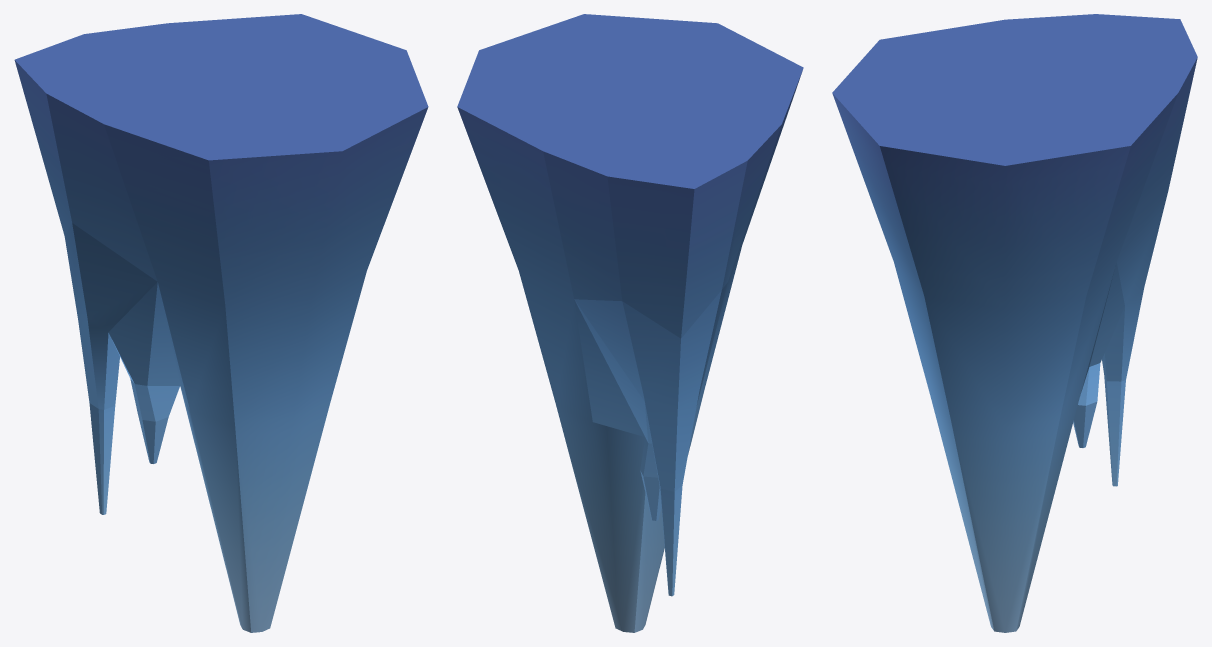
Rendered from icicle01.fbx.
3 renders of one model, left to right at view 1: azimuth 30°, elevation 25°; view 2: azimuth 150°, elevation 25°; view 3: azimuth 270°, elevation 25°, orthographic.
Parts seen in each view (by area): view 1: iceicle01; view 2: iceicle01; view 3: iceicle01.
Boxes of the visible parts, x1,y1,x2,y2 form: iceicle01: (14,14,428,632); iceicle01: (457,14,803,632); iceicle01: (832,14,1197,632).
Bounding box in the file's own units: 0.6101 × 1 × 0.6204.
